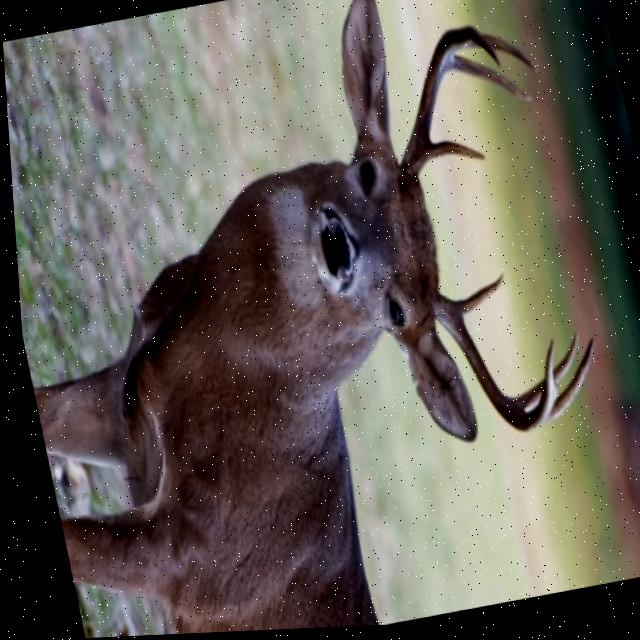L-F: (428, 295, 549, 438)
L-G1: (451, 276, 500, 318)
R-F: (396, 28, 499, 185)
R-G1: (424, 144, 483, 166)
R-G2: (445, 59, 530, 108)
